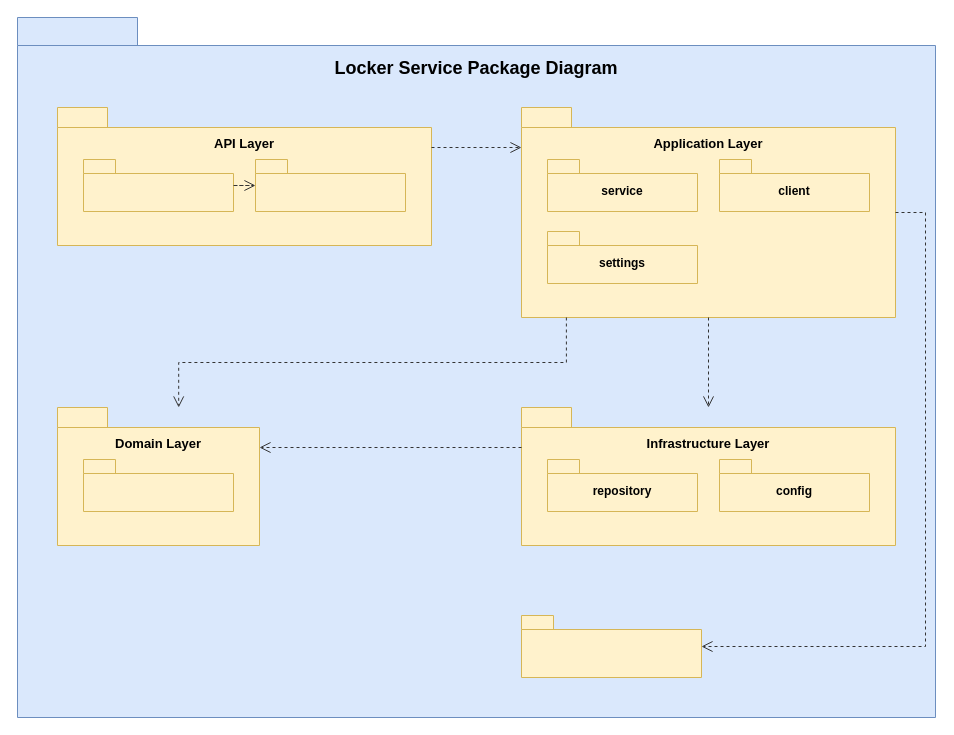
Image size: 954x735. Some labels were removed from this diagram. The centre of each missing label's shape, as x and y in pixels:
common-lib: pixel 611 646
controller: pixel 158 185
dto: pixel 330 185
model: pixel 158 485
